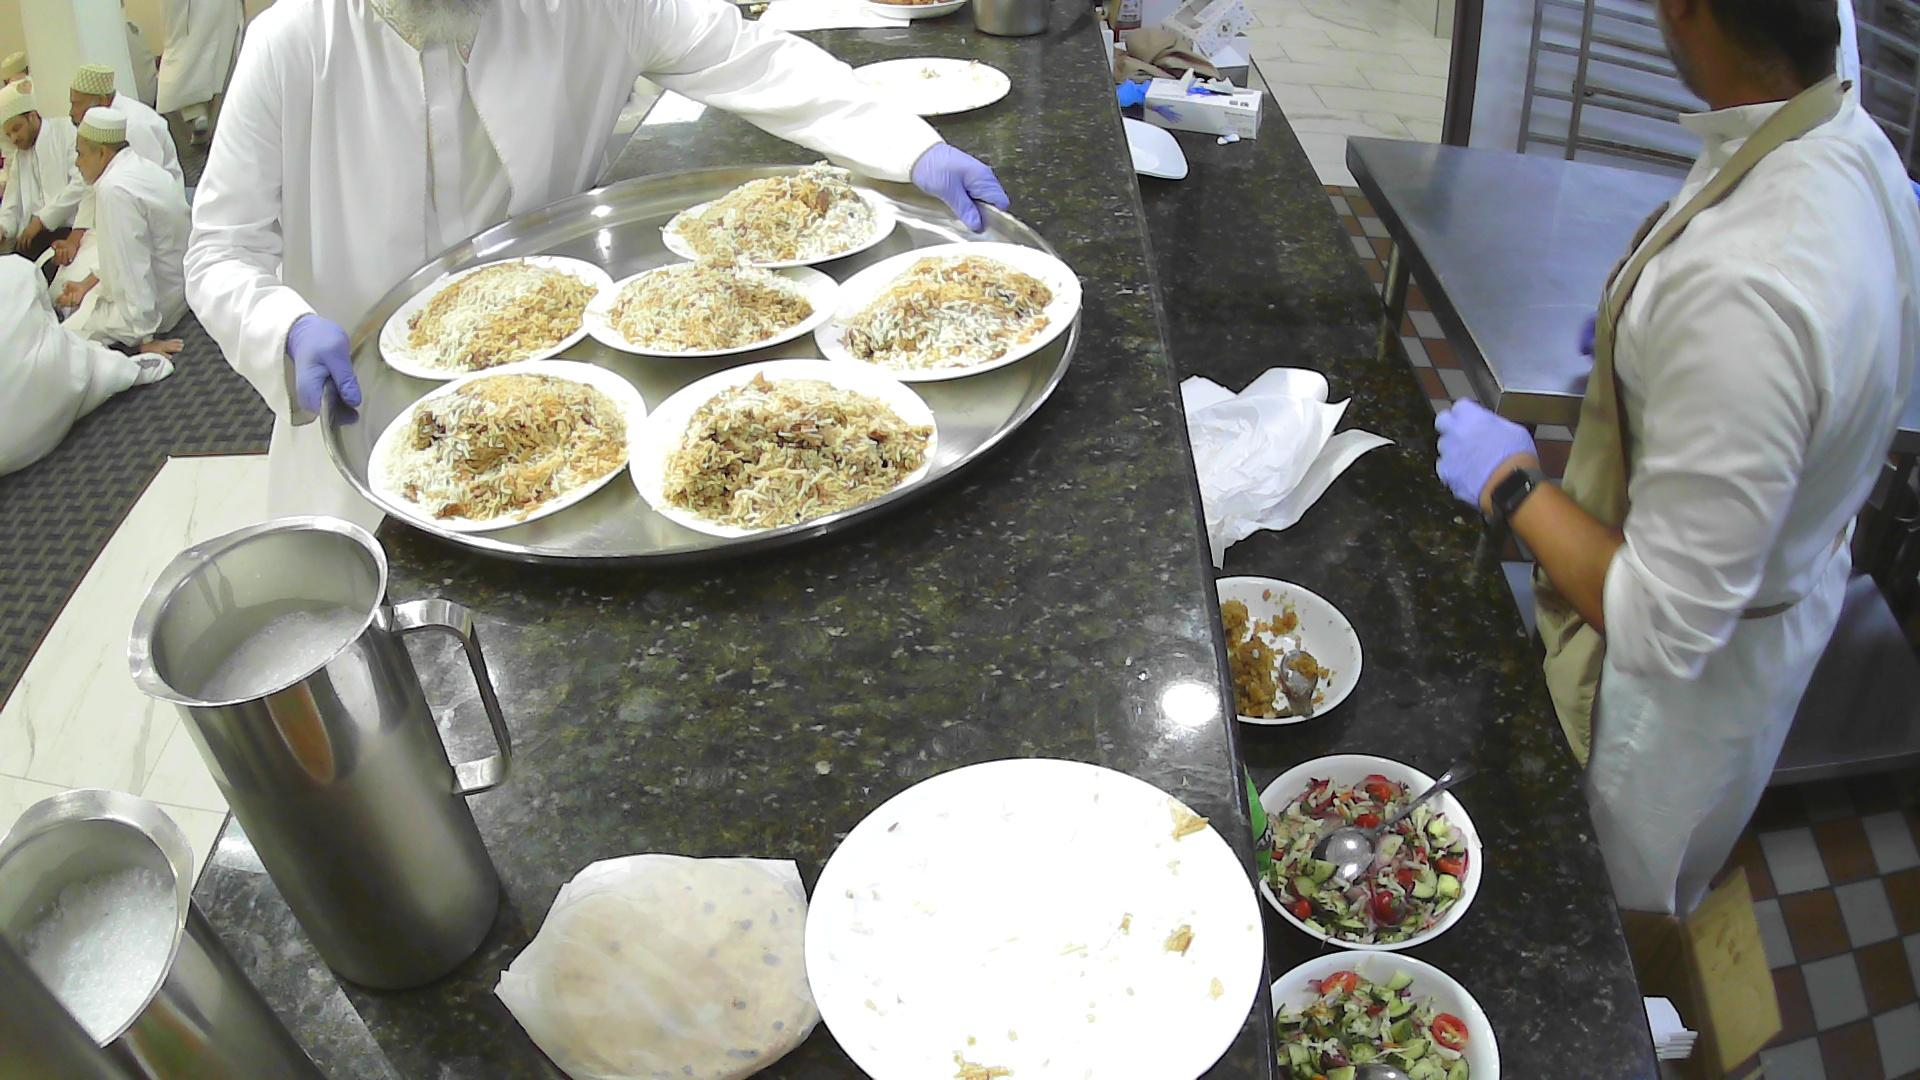thaal: (318, 161, 1085, 572)
